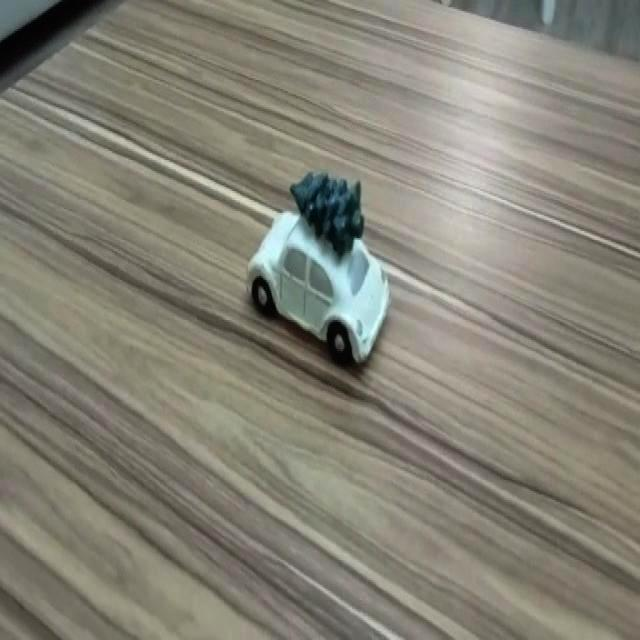car: (246, 215, 389, 361)
